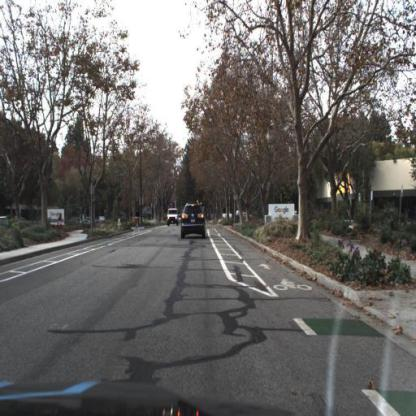biker: (136, 214, 141, 234)
car: (179, 200, 209, 244), (166, 206, 180, 229), (167, 208, 179, 227), (177, 213, 183, 227)
pedestrian: (58, 213, 63, 229)
